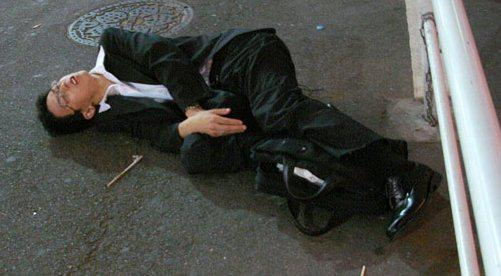Drunk: (45, 73, 95, 110)
